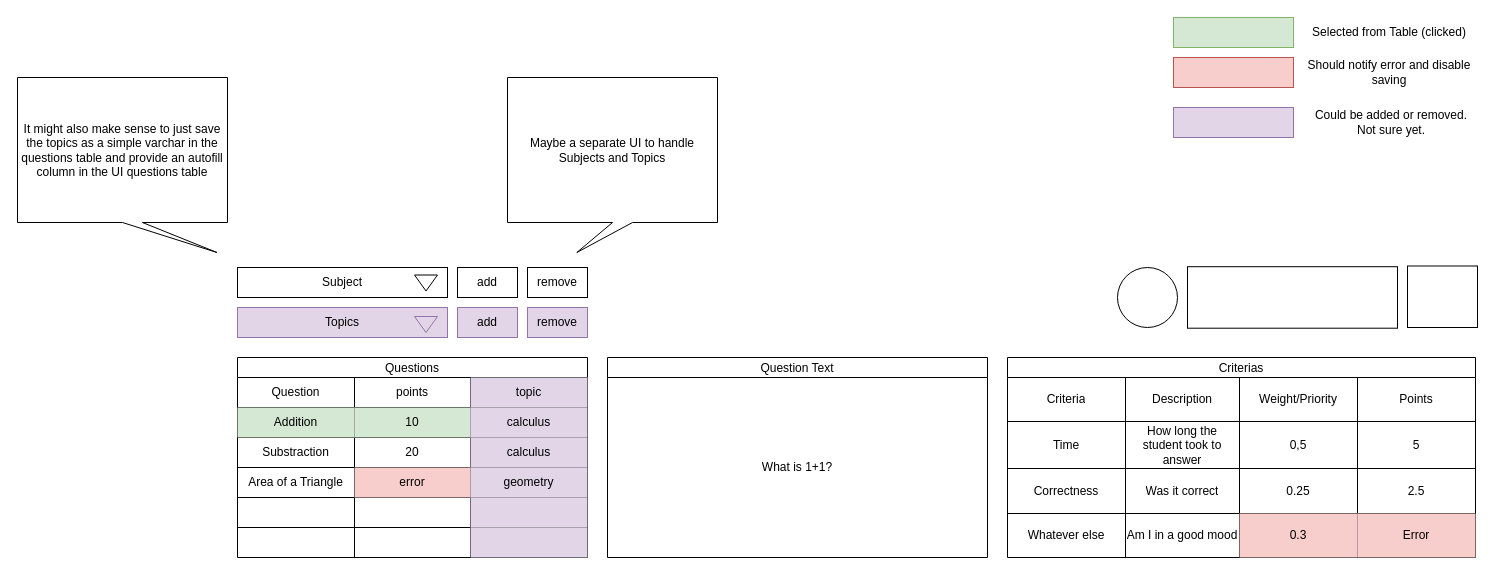
This 1495x575 diagram has some shape labels left out. The centre of each missing label's shape, as x and y in pixels:
logout: [1442,296]
Photo: [1147,297]
Professor: [1292,297]
